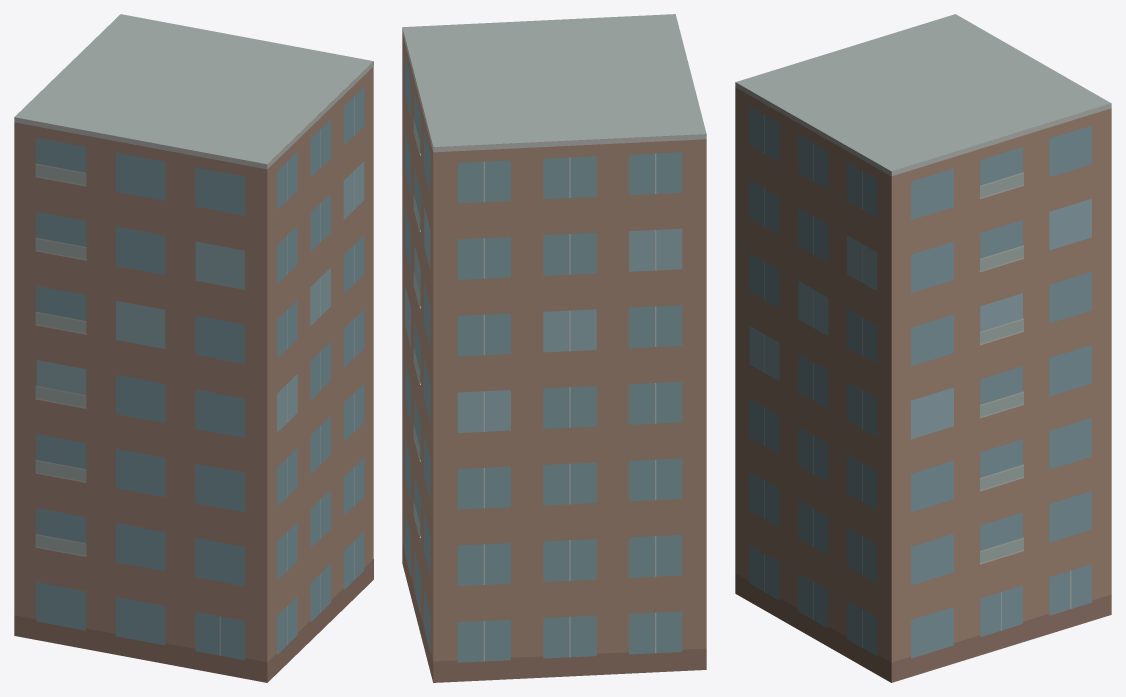
The model's file is survey-upis-33004326.glb.
The picture shows the model from 3 angles, left to right: view 1: azimuth 30°, elevation 25°; view 2: azimuth 150°, elevation 25°; view 3: azimuth 270°, elevation 25°; orthographic projection. The views are drawn at different scales.
Parts seen in each view (by area): view 1: survey-upis-33004326.tmp; view 2: survey-upis-33004326.tmp; view 3: survey-upis-33004326.tmp.
Part boxes in pixels (x1,y1,x2,y2): survey-upis-33004326.tmp: (14, 14, 373, 682); survey-upis-33004326.tmp: (402, 14, 706, 682); survey-upis-33004326.tmp: (735, 14, 1111, 682).
Size of the model in its own units: 16.51 by 25 by 16.67.
